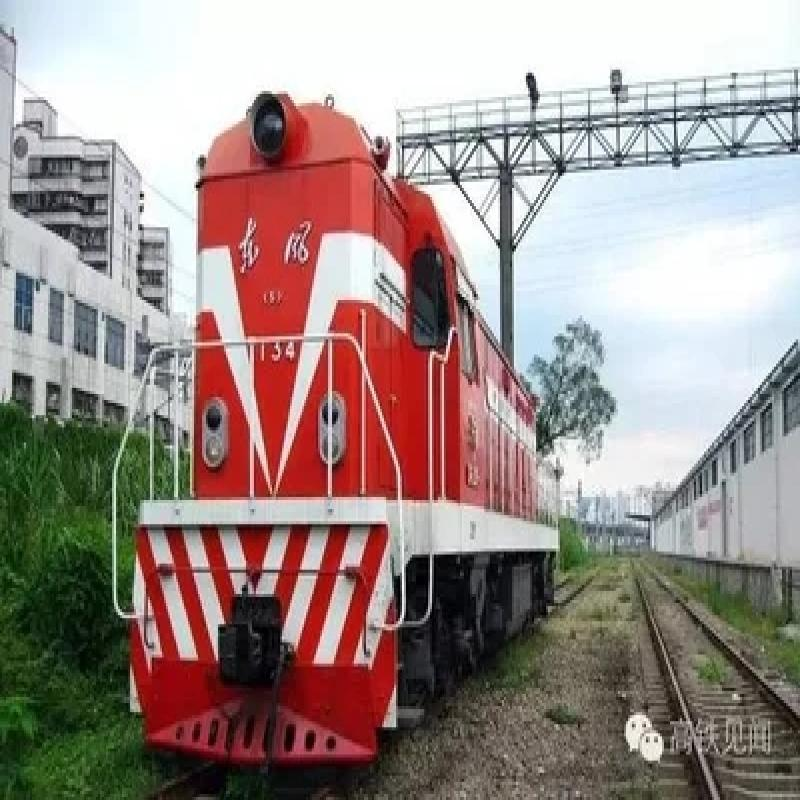train: (103, 74, 567, 765)
